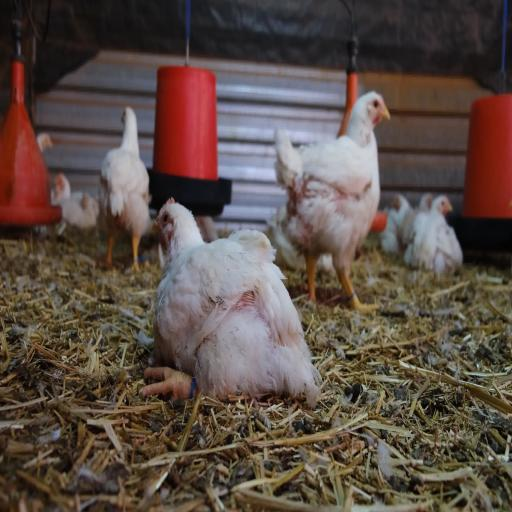healthy: (153, 193, 186, 251), (362, 86, 394, 130)
